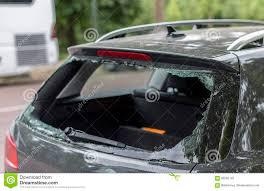Rear-windscreen-Damage: (27, 55, 230, 166)
